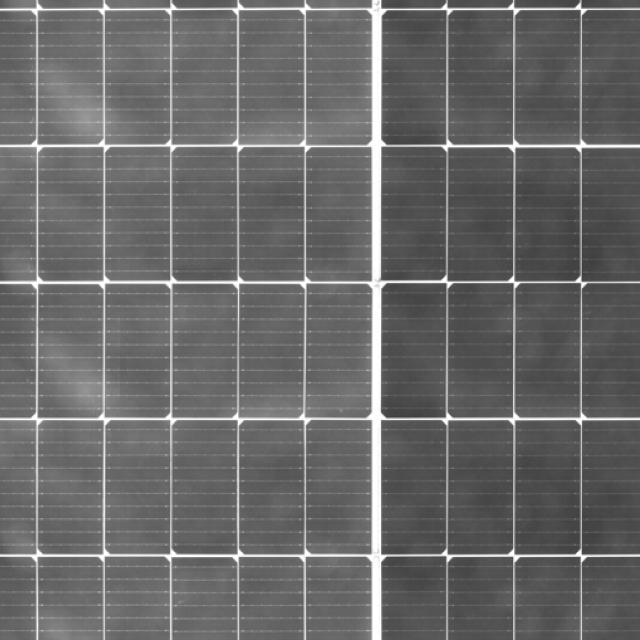CORRECT: (238, 1, 640, 640), (2, 1, 386, 640)
